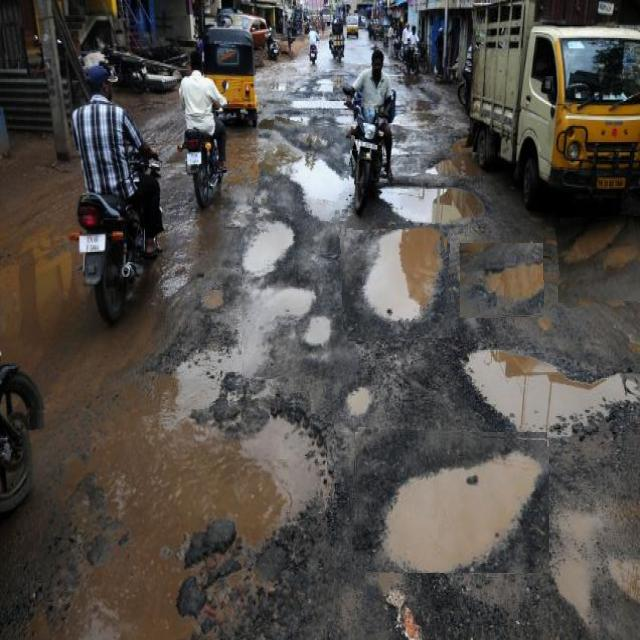Pothole: (27, 400, 334, 640), (353, 430, 549, 573), (242, 208, 354, 378), (342, 226, 455, 341), (258, 121, 351, 221), (557, 215, 640, 305), (460, 244, 543, 318)
